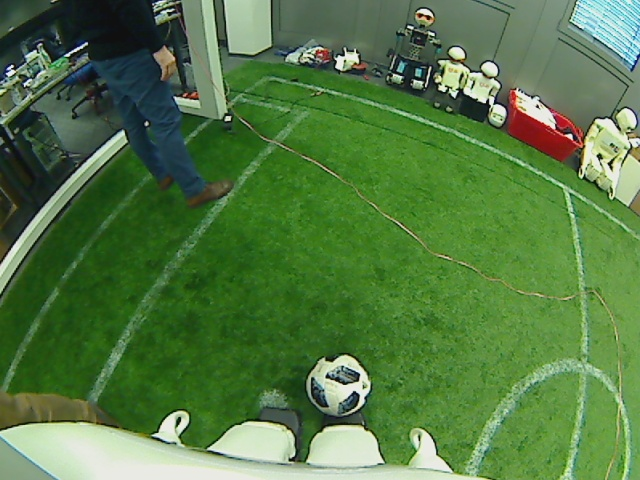ball: (303, 352, 373, 418)
